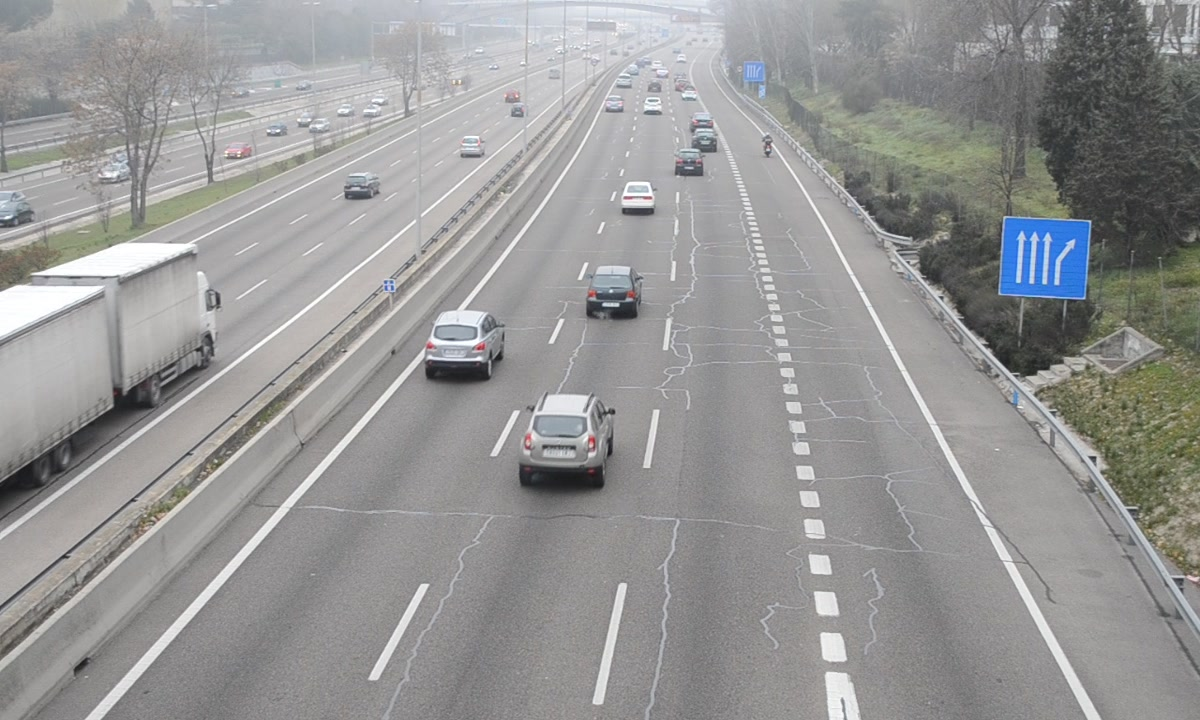car: (520, 395, 612, 471), (426, 312, 505, 364), (587, 266, 643, 314), (622, 180, 655, 211), (675, 148, 703, 177), (692, 128, 719, 153)
motorcycle: (761, 131, 775, 158)
